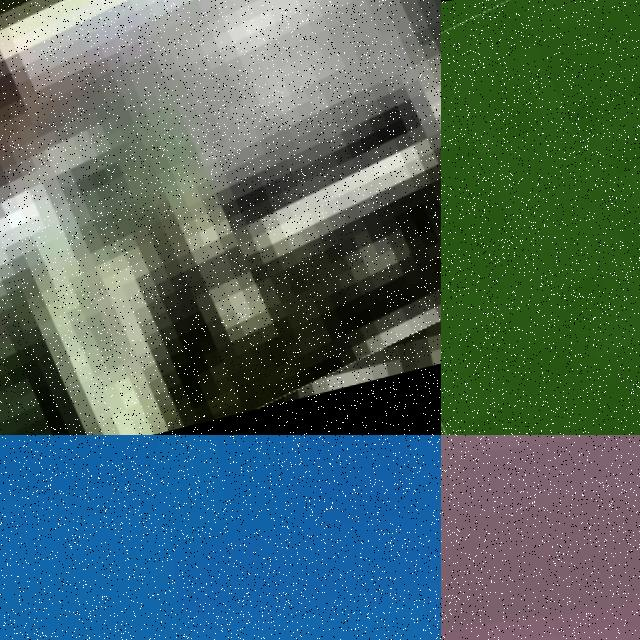drone: (0, 0, 441, 435), (441, 0, 640, 435)
